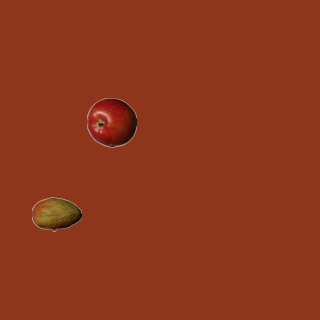Apple Braeburn: (86, 97, 136, 147)
Papaya: (31, 189, 81, 239)
